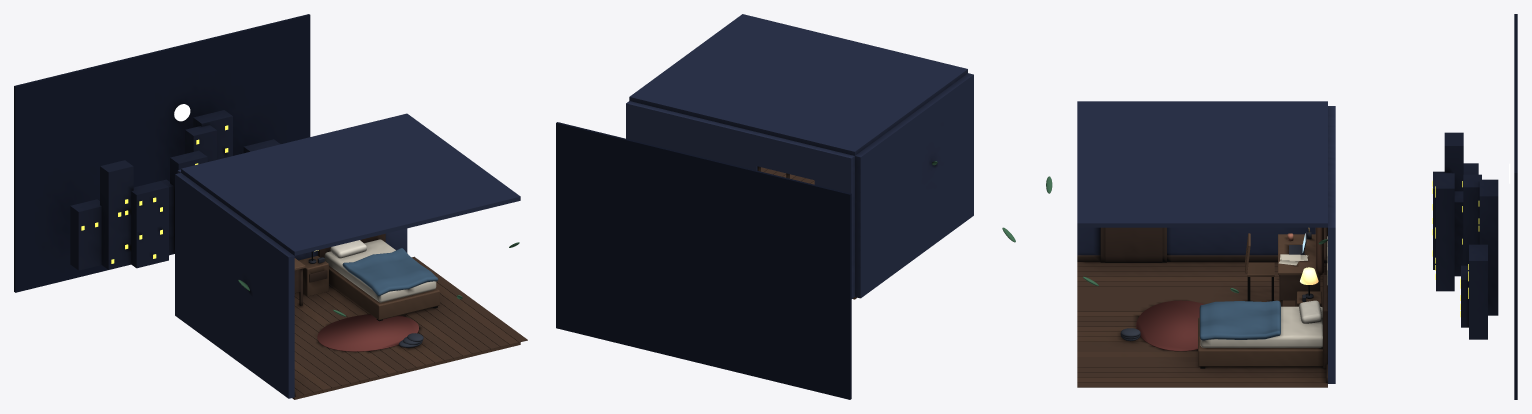
The model's file is set_bedroom.glb.
3 renders of one model, left to right at view 1: azimuth 30°, elevation 25°; view 2: azimuth 150°, elevation 25°; view 3: azimuth 270°, elevation 25°, orthographic. The views are drawn at different scales.
Parts seen in each view (by area): view 1: sky, ceiling, wall_left, building.001, building.002, rug, blanket, building, bed_frame, mattress, building.006, plank.024 (+21 smaller); view 2: sky, ceiling, wall_left, wall_back_r, wall_back_t, wall_back_l; view 3: ceiling, wall_left, blanket, rug, bed_frame, building.004, mattress, building.006, door, building.008, wall_back_r, sky (+26 smaller).
Part boxes in pixels (<box>): sky: <box>14,14,310,292</box>; ceiling: <box>181,113,520,255</box>; wall_left: <box>175,173,294,398</box>; building.001: <box>100,160,133,269</box>; building.002: <box>131,181,168,268</box>; rug: <box>317,314,418,351</box>; blanket: <box>342,248,438,296</box>; building: <box>70,199,101,270</box>; bed_frame: <box>329,266,439,320</box>; mattress: <box>324,239,436,302</box>; building.006: <box>193,110,232,159</box>; plank.024: <box>412,256,527,342</box>; sky: <box>556,122,851,399</box>; ceiling: <box>629,14,967,155</box>; wall_left: <box>855,73,973,298</box>; wall_back_r: <box>626,101,758,170</box>; wall_back_t: <box>756,132,817,179</box>; wall_back_l: <box>814,147,854,298</box>; ceiling: <box>1077,101,1327,227</box>; wall_left: <box>1077,227,1315,255</box>; blanket: <box>1199,300,1280,340</box>; rug: <box>1136,300,1204,351</box>; bed_frame: <box>1198,317,1322,366</box>; building.004: <box>1436,173,1454,291</box>; mattress: <box>1200,306,1322,347</box>; building.006: <box>1479,179,1498,315</box>; door: <box>1105,227,1162,262</box>; building.008: <box>1469,244,1487,339</box>; wall_back_r: <box>1328,157,1335,383</box>; sky: <box>1514,14,1517,399</box>.
Bounding box in the file's own units: 6.47 × 4 × 8.22.
